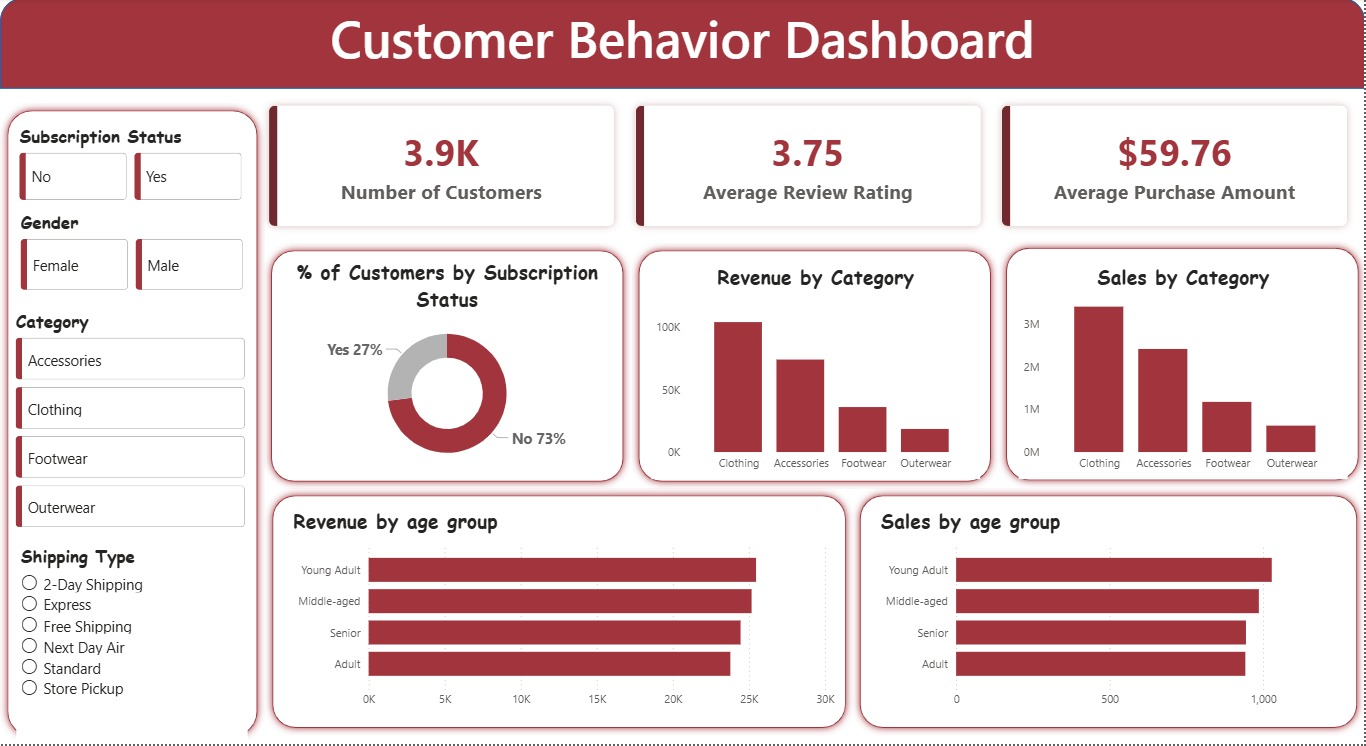

Layout of this report page (visuals, bound fields, positions):
{"tool":"powerbi","page":{"name":"Page 1","canvas":[1500,820],"ordinal":0},"visuals":[{"type":"cardVisual","fields":{"Data":["cleaned_data.Number of Customers","cleaned_data.Average Review Rating","cleaned_data.Average Purchase Amount"]},"box":[278.2,99.7,1222.1,168.8],"z":0},{"type":"shape","box":[0,0,1500.3,99.7],"z":1000},{"type":"textbox","box":[0,0,1500.3,98.1],"z":2000},{"type":"shape","box":[290.6,269,403.4,270.3],"z":3000},{"type":"shape","box":[694,269,403.4,270.3],"z":4000},{"type":"donutChart","title":"% of Customers by Subscription Status","fields":{"Category":["cleaned_data.subscription_status"],"Y":["CountNonNull(cleaned_data.customer_id)"]},"box":[316.6,285.4,351.3,238.8],"z":5000},{"type":"shape","box":[1098.4,266.9,403.6,271.8],"z":6000},{"type":"clusteredColumnChart","title":"Revenue by Category","fields":{"Y":["Sum(cleaned_data.purchase_amount)"],"Category":["cleaned_data.category"]},"box":[715.6,291.1,361.8,238],"z":7000},{"type":"clusteredColumnChart","title":"Sales by Category","fields":{"Y":["Sum(cleaned_data.customer_id)"],"Category":["cleaned_data.category"]},"box":[1119.2,291.1,361.8,238],"z":8000},{"type":"shape","box":[0,115.8,291.1,704.3],"z":9000},{"type":"advancedSlicerVisual","title":"Subscription Status","fields":{"Values":["cleaned_data.subscription_status"]},"box":[16.1,138.3,255.7,88.4],"z":10000},{"type":"advancedSlicerVisual","title":"Gender","fields":{"Values":["cleaned_data.gender"]},"box":[17.7,233.2,255.7,93.3],"z":11000},{"type":"advancedSlicerVisual","title":"Category","fields":{"Values":["cleaned_data.category"]},"box":[12.9,342.5,262.1,244.4],"z":12000},{"type":"listSlicer","title":"Shipping Type","fields":{"Values":["cleaned_data.shipping_type"]},"box":[17.7,599.8,254.1,220.3],"z":12001},{"type":"shape","box":[291.1,538.7,646.4,271.8],"z":12002},{"type":"clusteredBarChart","title":"Revenue by age group","fields":{"Y":["Sum(cleaned_data.previous_purchases)"],"Category":["cleaned_data.age_group"]},"box":[316.8,559.6,604.6,230],"z":12003},{"type":"shape","box":[937.5,538.7,562.8,271.8],"z":12004},{"type":"clusteredBarChart","title":"Sales by age group","fields":{"Y":["CountNonNull(cleaned_data.customer_id)"],"Category":["cleaned_data.age_group"]},"box":[963.2,559.6,513,230],"z":12005}]}

Visuals, with their boxes in screenshot pixels (x1, y1, x2, y2), scaled from the page's 1500x820 canvas onto the 1366x746 screenshot:
cardVisual - cleaned_data.Number of Customers x cleaned_data.Average Review Rating: Rect(253, 91, 1365, 244)
shape: Rect(0, 0, 1365, 91)
textbox: Rect(0, 0, 1365, 89)
shape: Rect(265, 245, 632, 491)
shape: Rect(632, 245, 999, 491)
"% of Customers by Subscription Status" donutChart: Rect(288, 260, 608, 477)
shape: Rect(1000, 243, 1365, 490)
"Revenue by Category" clusteredColumnChart: Rect(652, 265, 981, 481)
"Sales by Category" clusteredColumnChart: Rect(1019, 265, 1349, 481)
shape: Rect(0, 105, 265, 745)
"Subscription Status" advancedSlicerVisual: Rect(15, 126, 248, 206)
"Gender" advancedSlicerVisual: Rect(16, 212, 249, 297)
"Category" advancedSlicerVisual: Rect(12, 312, 250, 534)
"Shipping Type" listSlicer: Rect(16, 546, 248, 745)
shape: Rect(265, 490, 854, 737)
"Revenue by age group" clusteredBarChart: Rect(288, 509, 839, 718)
shape: Rect(854, 490, 1365, 737)
"Sales by age group" clusteredBarChart: Rect(877, 509, 1344, 718)
